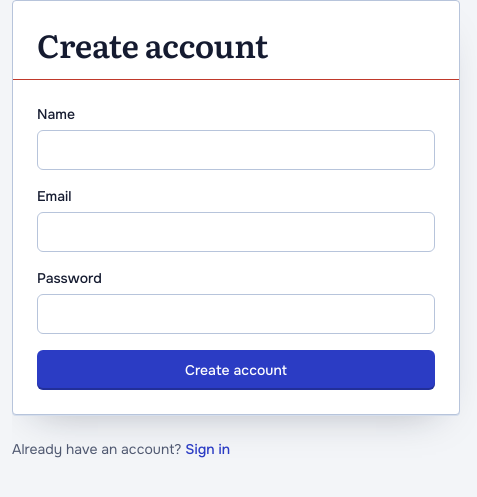
Test: RegisterForm › puts a taken email on the email field
Type "Person" into the field labelled "Name".
click(236, 150); type("Person")  # box [37, 130, 435, 170]
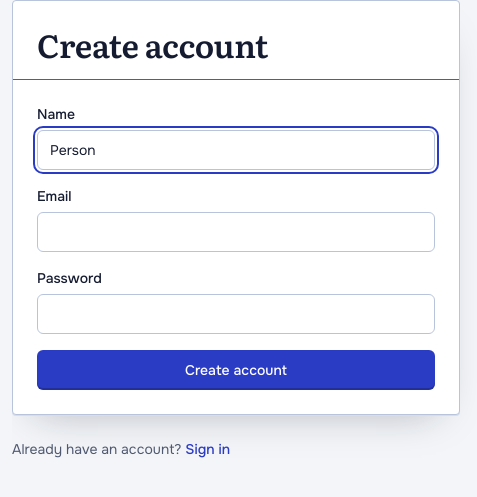
Type "person@example.com" into the field labelled "Email".
click(236, 232); type("person@example.com")  # box [37, 212, 435, 252]
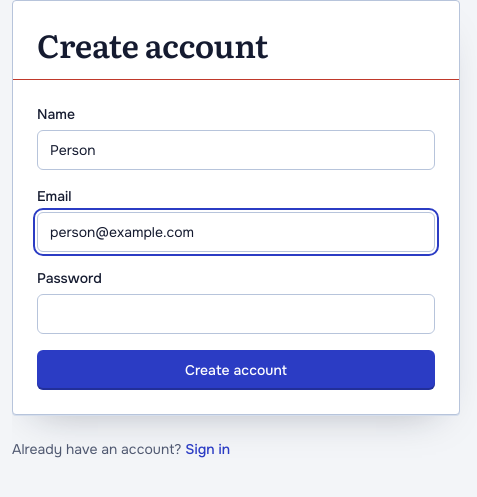
Type "correct horse battery" into the password field labelled "Password".
click(236, 314); type("correct horse battery")  # box [37, 294, 435, 334]
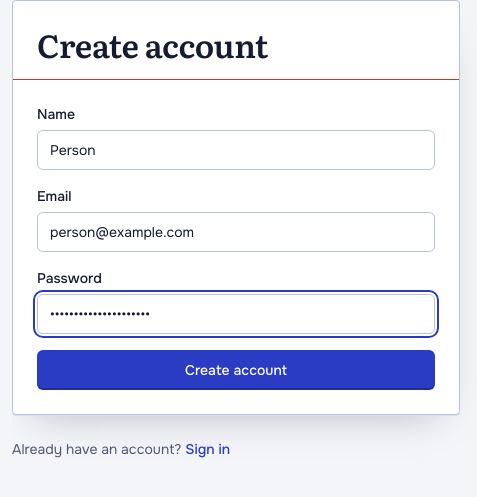
Click the button "Create account".
click(236, 370)  # box [37, 350, 435, 390]
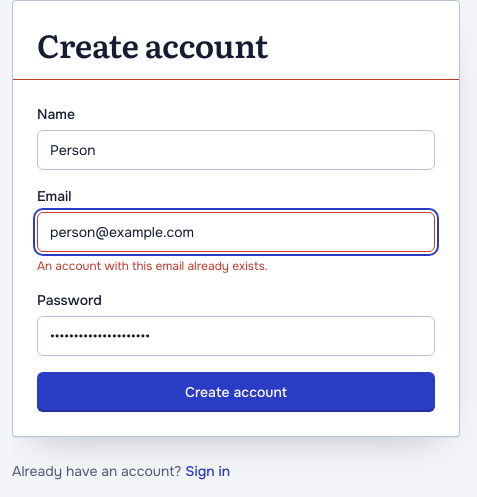
Result: the text "An account with this email already exists." is shown at [37, 258, 268, 274]
